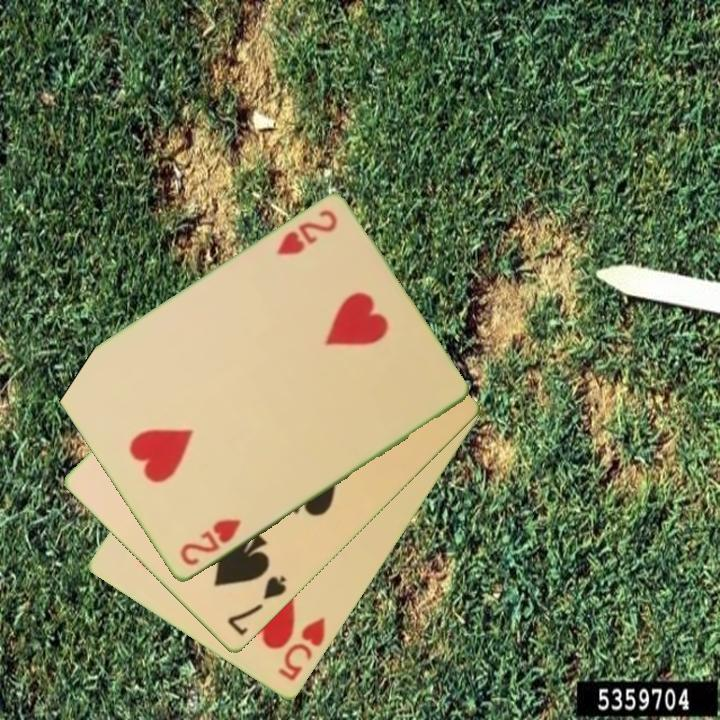2h: (176, 516, 244, 570), (273, 206, 341, 259)
5h: (274, 614, 329, 685)
7s: (224, 573, 290, 639)
